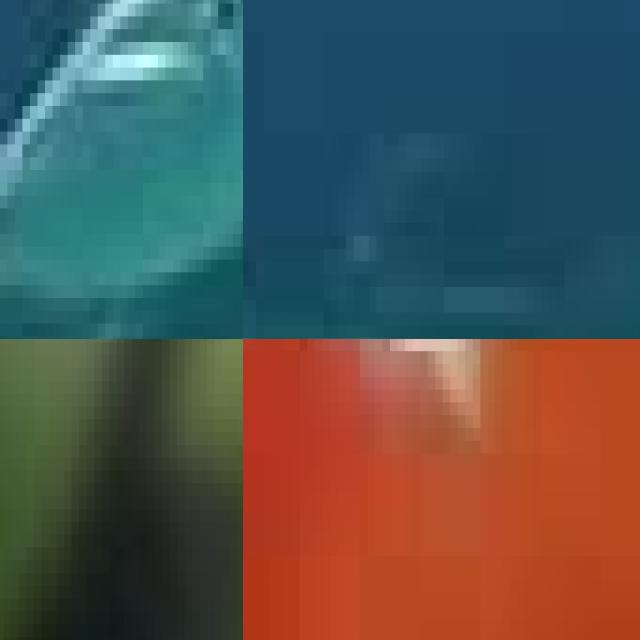fish: (0, 0, 243, 339), (442, 339, 640, 640)
